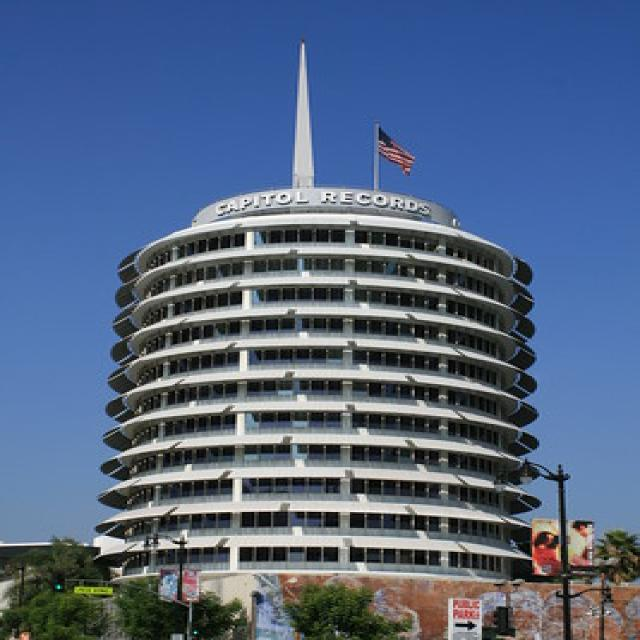building: (86, 178, 552, 585)
